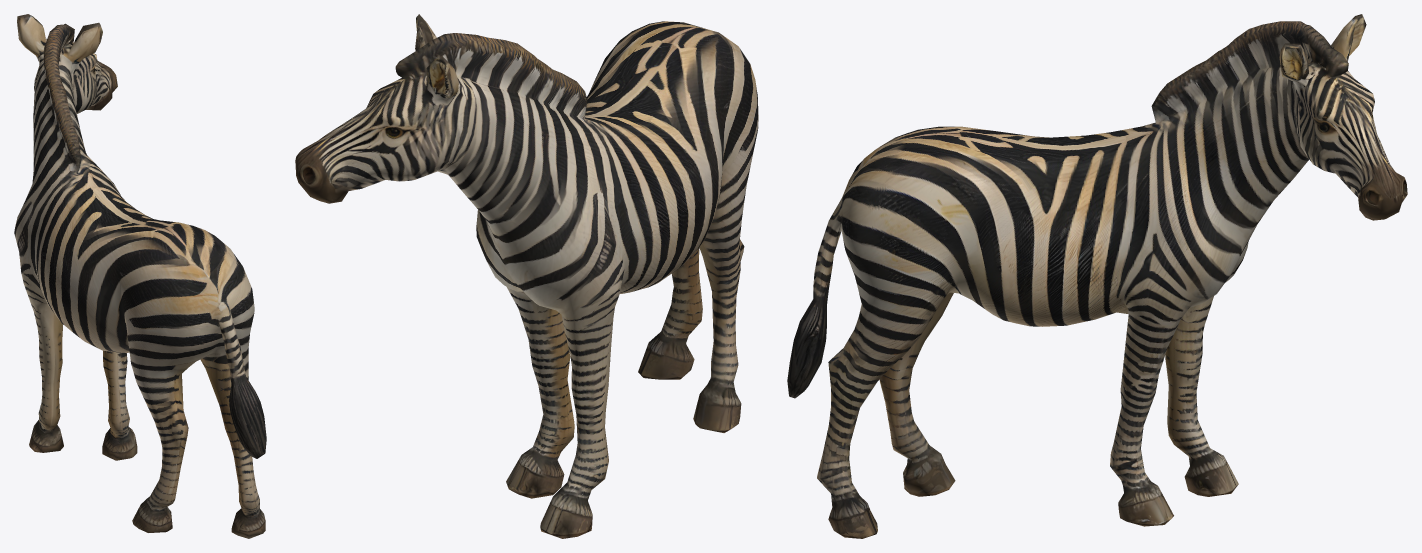
The model's file is zebra.glb.
The picture shows the model from 3 angles, left to right: view 1: azimuth 30°, elevation 25°; view 2: azimuth 150°, elevation 25°; view 3: azimuth 270°, elevation 25°; orthographic projection. The views are drawn at different scales.
Parts seen in each view (by area): view 1: tripo_node_fda9e047-d9f0-455b-9946-7e2ae2964388; view 2: tripo_node_fda9e047-d9f0-455b-9946-7e2ae2964388; view 3: tripo_node_fda9e047-d9f0-455b-9946-7e2ae2964388.
Boxes of the visible parts, x1,y1,x2,y2 form: tripo_node_fda9e047-d9f0-455b-9946-7e2ae2964388: (14,14,266,538); tripo_node_fda9e047-d9f0-455b-9946-7e2ae2964388: (295,14,758,538); tripo_node_fda9e047-d9f0-455b-9946-7e2ae2964388: (787,14,1407,538).
Size of the model in its own units: 0.4223 by 0.8839 by 1.
Materials: 1 (1 with a texture image).
